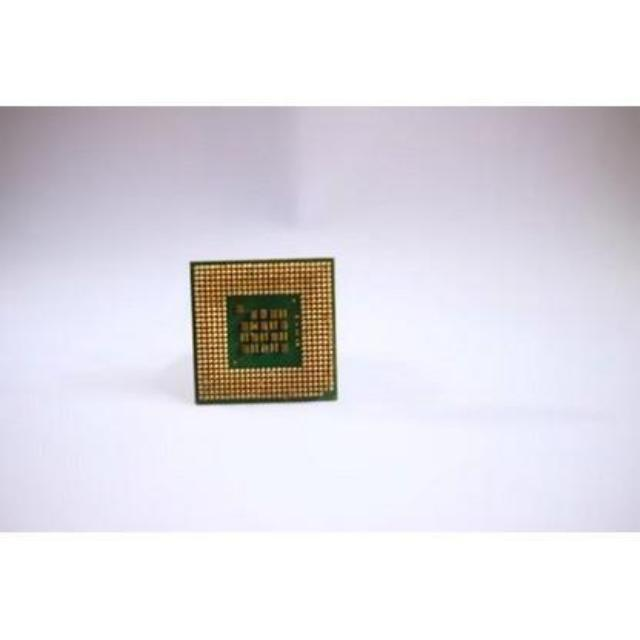CPU: (185, 253, 340, 413)
